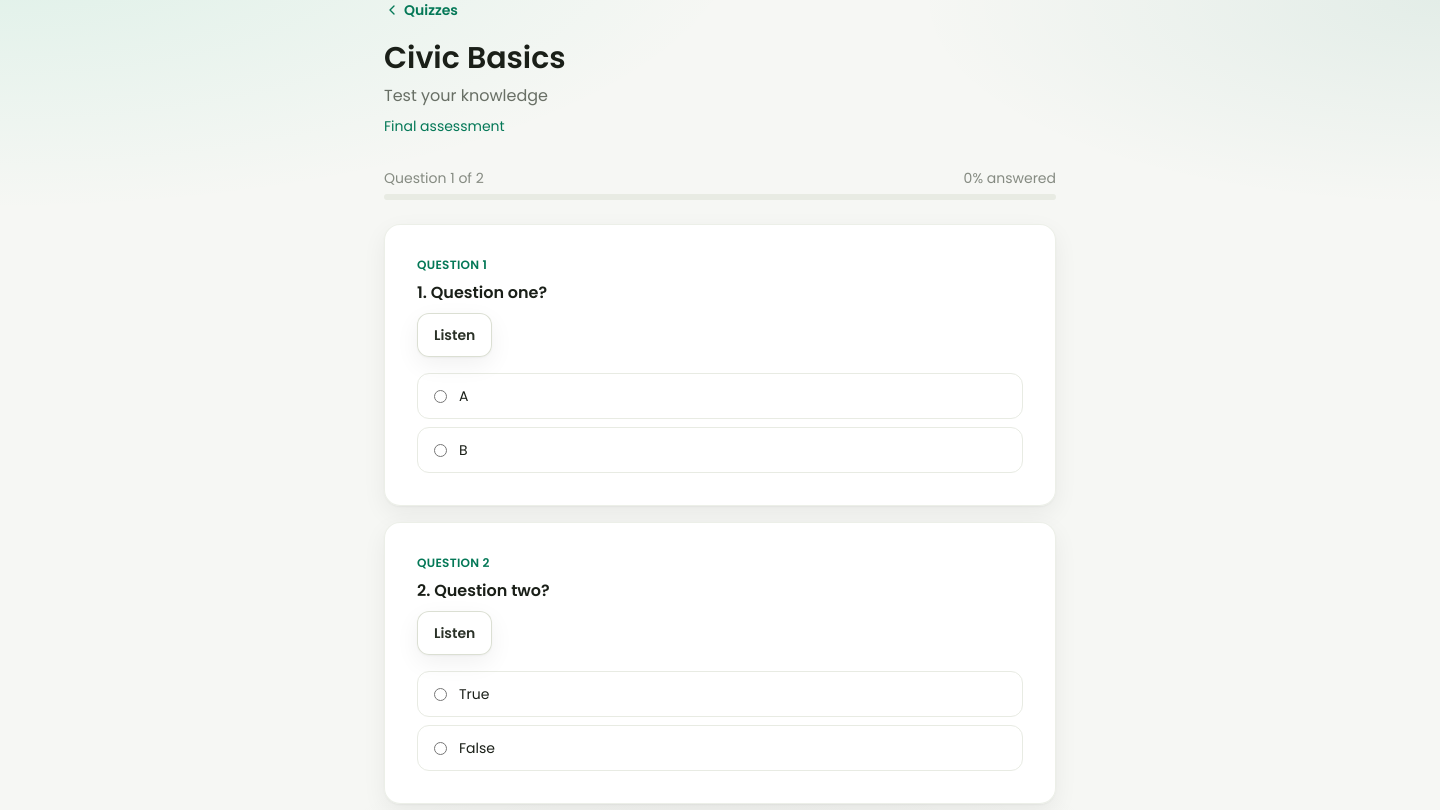
Test: QuizTakePage › renders quiz questions and disables submit until all answered
The image size is (1440, 810).
expect the heading "Civic Basics" is shown: met, box [384, 37, 566, 79]
expect the text "1. Question one?" is shown: met, box [417, 281, 547, 304]
Click the radio button labelled "A" at (440, 396), box [434, 390, 447, 402]
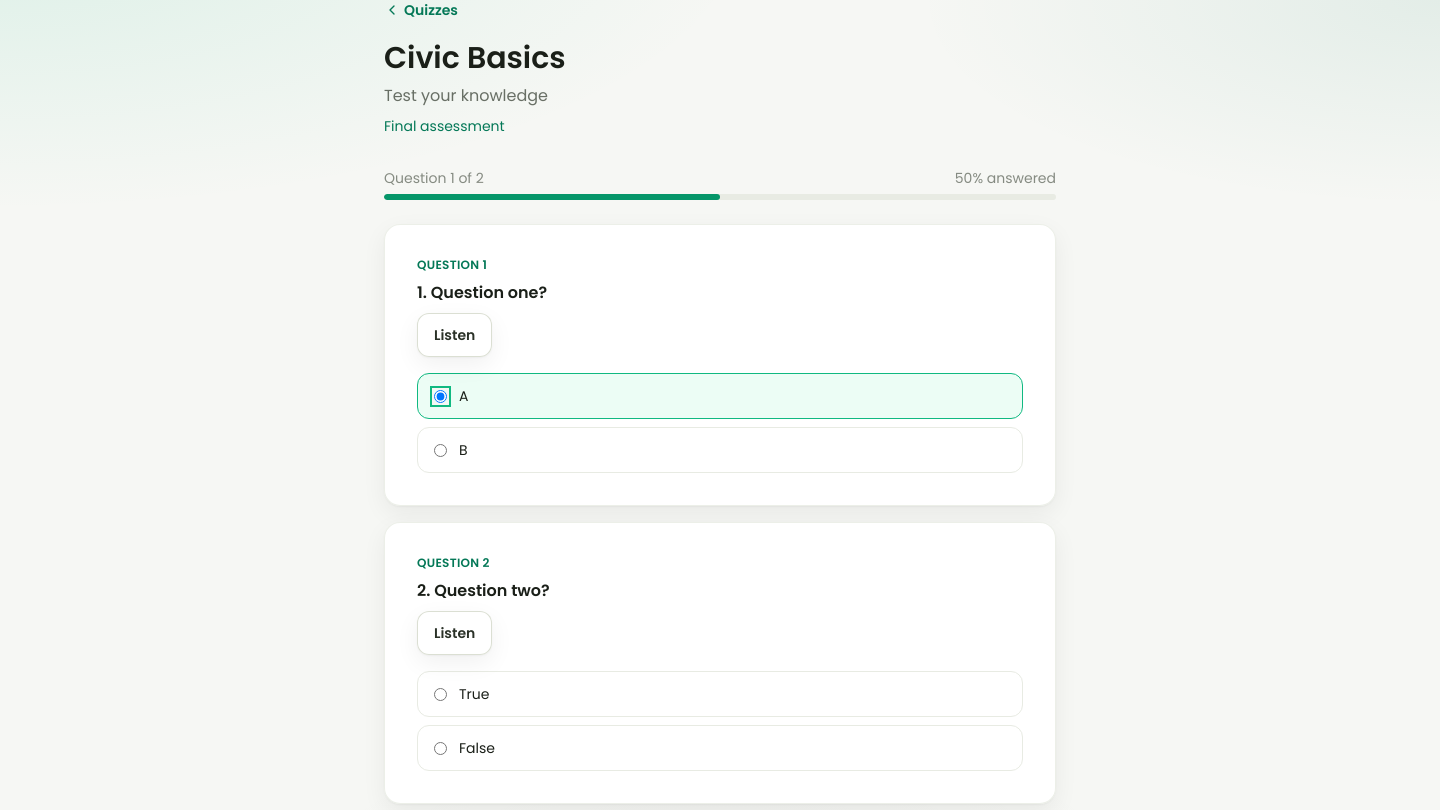
Click the radio button labelled "True" at (440, 694), box [434, 688, 447, 700]
(page scrolled)
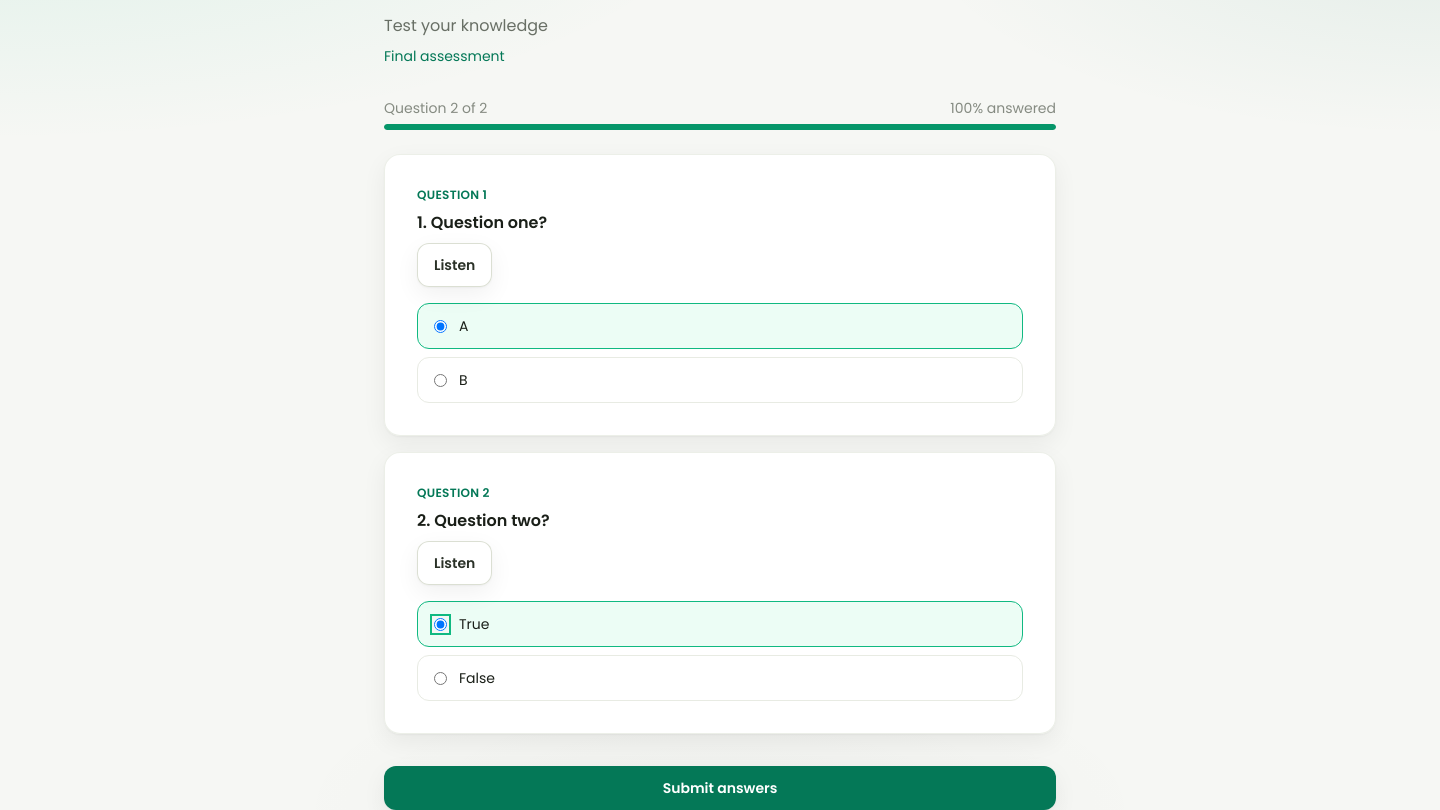
expect the button "Submit answers" is enabled: met, box [384, 766, 1056, 809]
